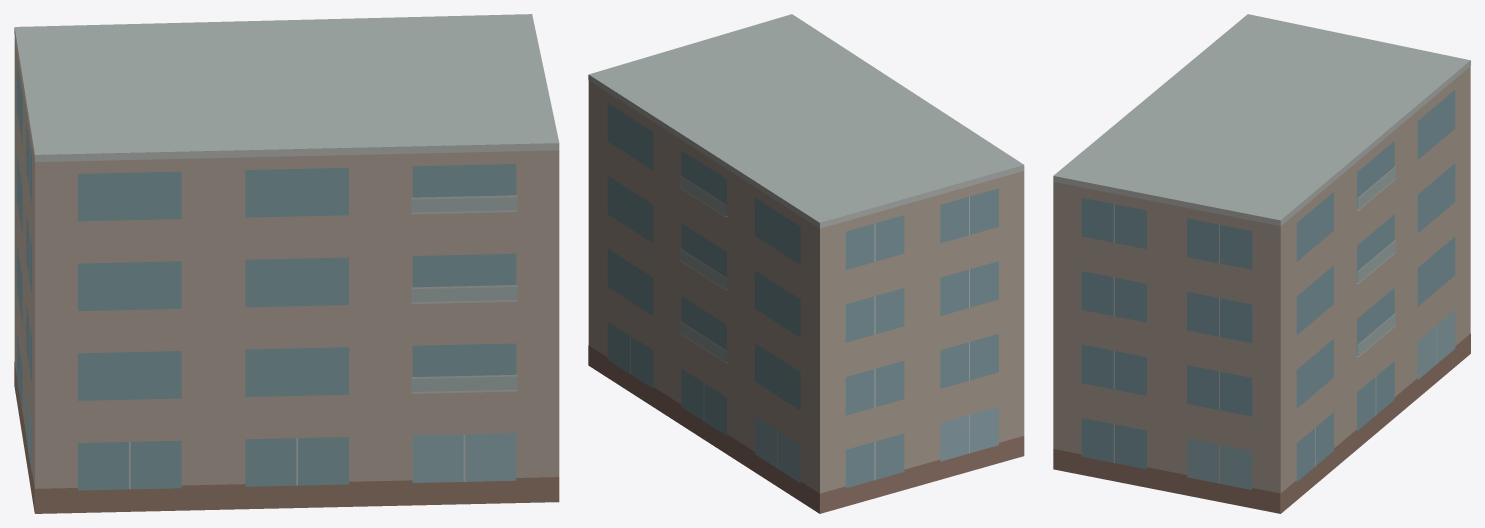
The model's file is survey-upis-32686402.glb.
3 renders of one model, left to right at view 1: azimuth 30°, elevation 25°; view 2: azimuth 150°, elevation 25°; view 3: azimuth 270°, elevation 25°, orthographic. The views are drawn at different scales.
Parts seen in each view (by area): view 1: survey-upis-32686402.tmp; view 2: survey-upis-32686402.tmp; view 3: survey-upis-32686402.tmp.
Boxes of the visible parts, <box> form: survey-upis-32686402.tmp: <box>14,14,559,513</box>; survey-upis-32686402.tmp: <box>588,14,1024,513</box>; survey-upis-32686402.tmp: <box>1053,14,1470,513</box>.
Bounding box in the file's own units: 18.41 × 12.2 × 15.74.
